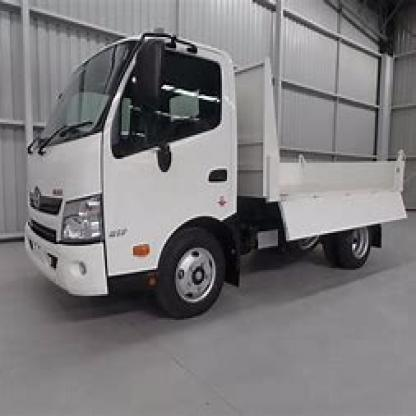dump_truck: (21, 28, 403, 340)
